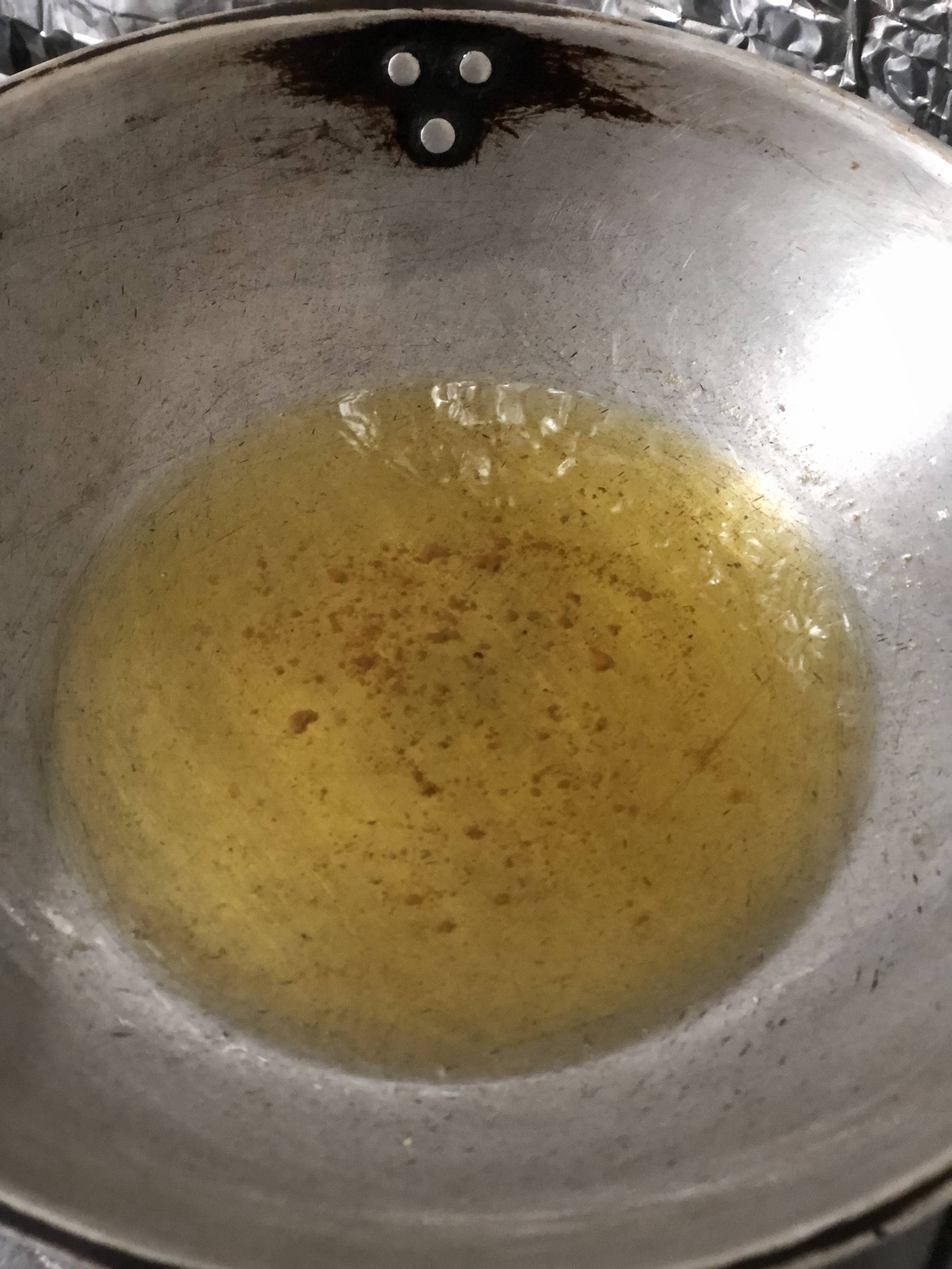reusable: (63, 387, 859, 1073)
